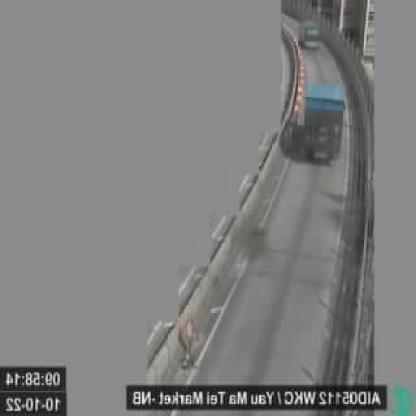Truck: (302, 79, 347, 164), (300, 17, 321, 51)
